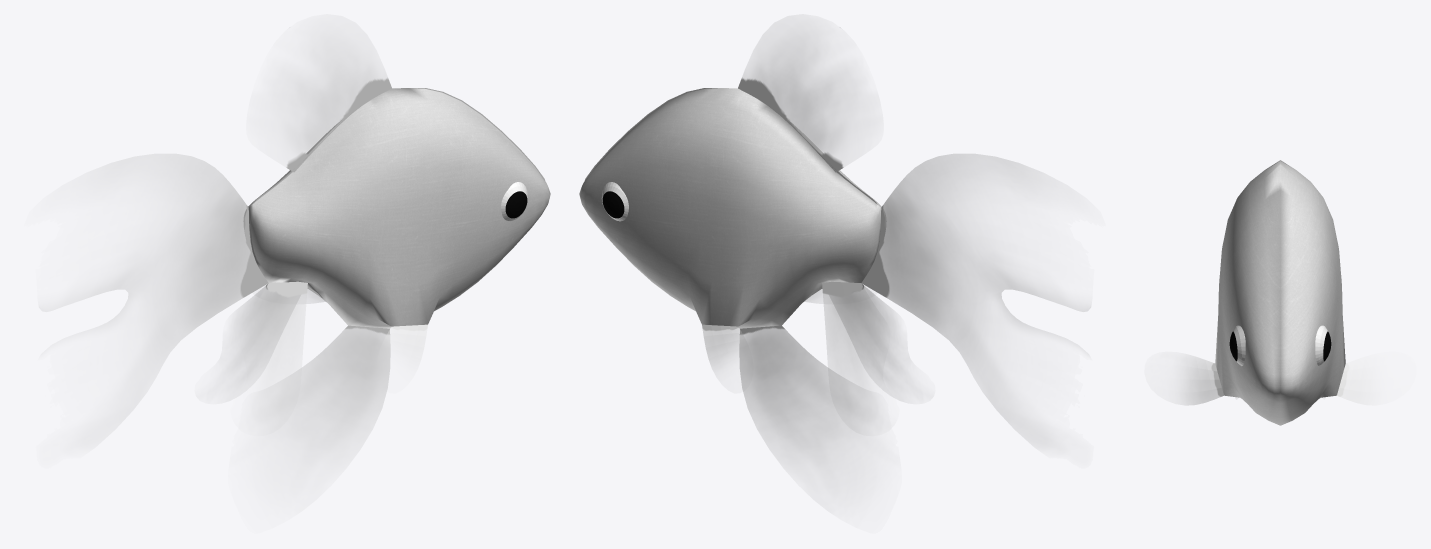
Rendered from fish_fancier2.glb.
The picture shows the model from 3 angles, left to right: view 1: azimuth 30°, elevation 25°; view 2: azimuth 150°, elevation 25°; view 3: azimuth 270°, elevation 25°; orthographic projection. The views are drawn at different scales.
Visible parts, largest first — view 1: Cube, Sphere; view 2: Cube, Sphere.001; view 3: Cube, Sphere, Sphere.001.
Part boxes in pixels (x1,y1,x2,y2): Cube: [39, 22, 550, 480]; Sphere: [501, 182, 528, 221]; Cube: [579, 22, 1090, 480]; Sphere.001: [601, 182, 628, 221]; Cube: [1177, 160, 1383, 425]; Sphere: [1229, 325, 1245, 365]; Sphere.001: [1315, 325, 1331, 365].
Bounding box in the file's own units: 0.8065 × 0.7283 × 0.3438.
Materials: 2 (2 with a texture image).
